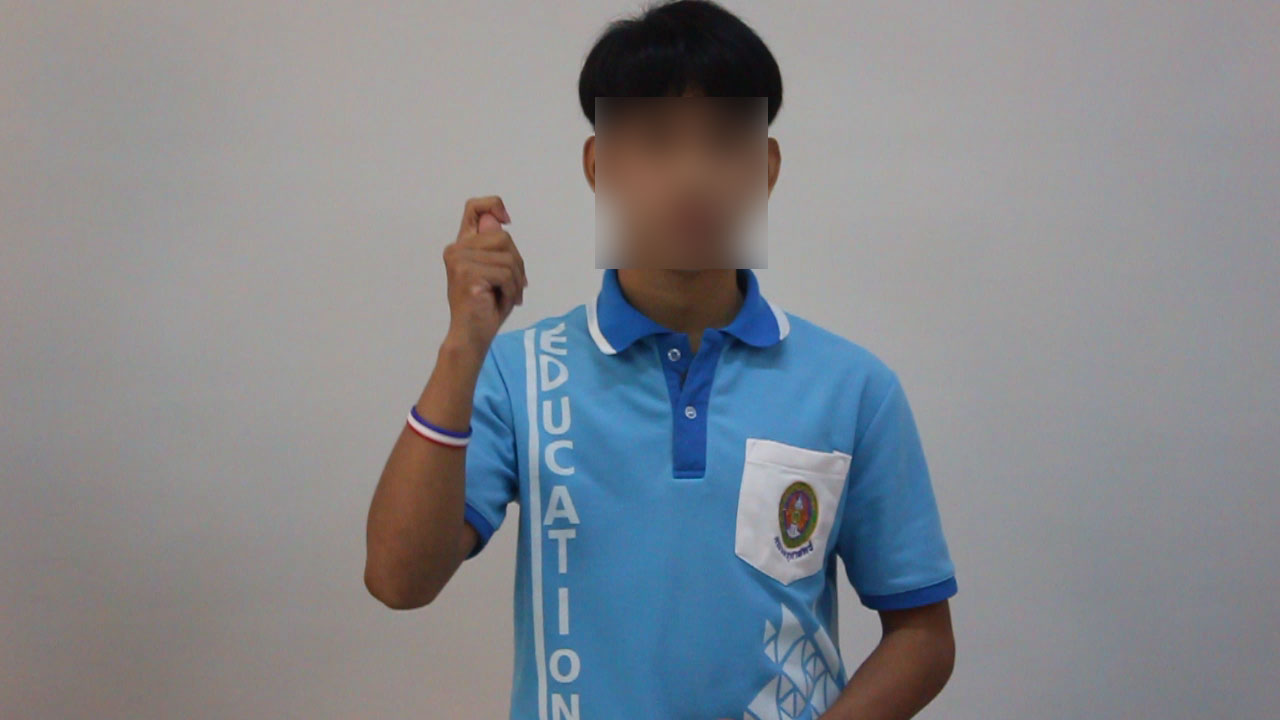or: (430, 190, 538, 345)
